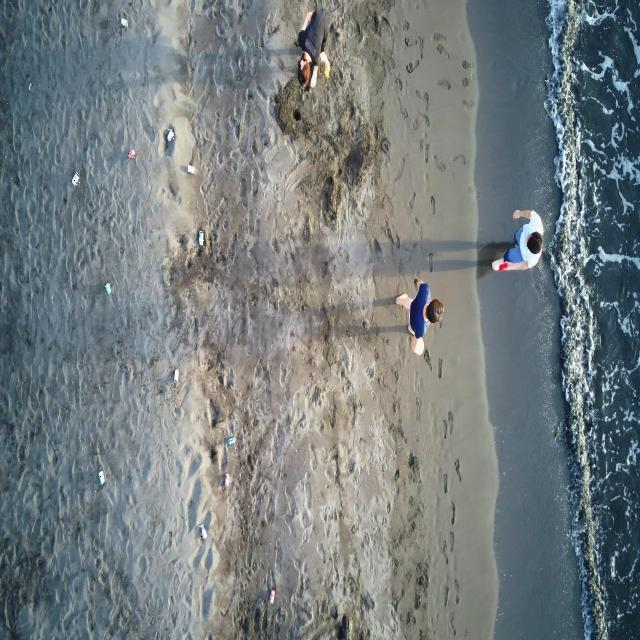tin-and-aluminum-cans: (268, 589, 276, 605), (99, 468, 106, 486), (71, 172, 80, 186), (199, 524, 207, 539), (173, 367, 180, 384), (167, 128, 174, 142), (198, 230, 204, 246), (187, 164, 196, 174), (224, 473, 230, 488), (128, 148, 135, 160), (105, 282, 111, 295), (121, 18, 128, 28), (228, 437, 235, 446)
